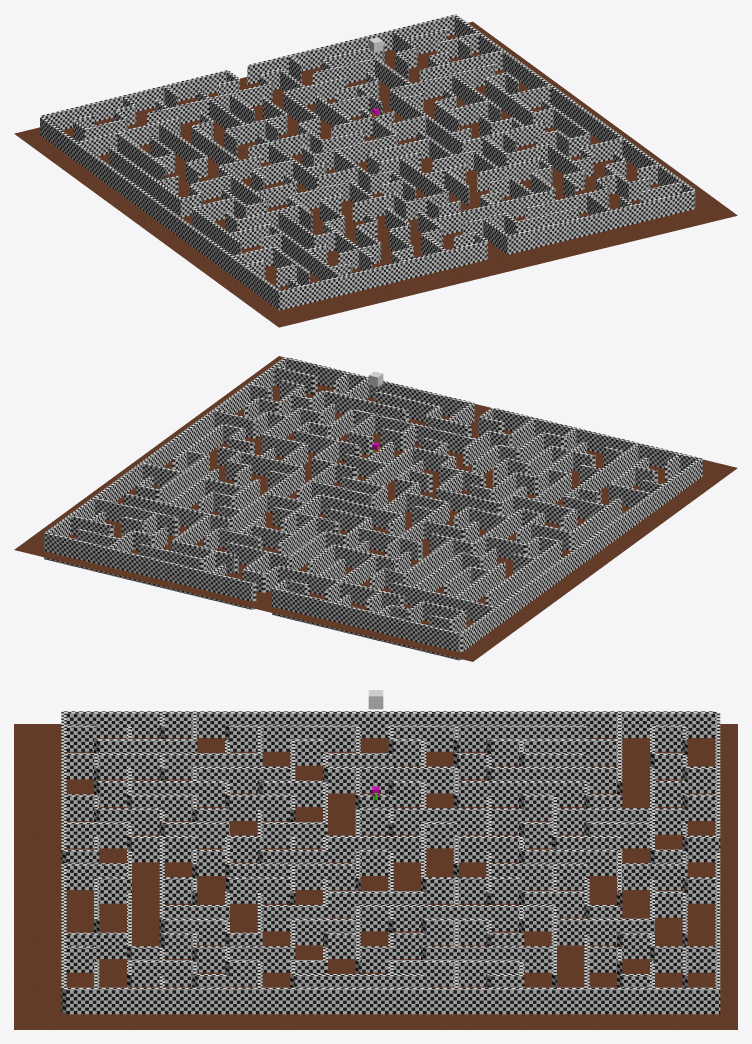
The model's file is backrooms.fbx.
The picture shows the model from 3 angles, top to bottom: view 1: azimuth 30°, elevation 25°; view 2: azimuth 150°, elevation 25°; view 3: azimuth 270°, elevation 25°; orthographic projection. The views are drawn at different scales.
Parts seen in each view (by area): view 1: whall, ground; view 2: whall, ground; view 3: whall, ground.
Boxes of the visible parts, x1,y1,x2,y2 form: whall: (40, 14, 695, 310); ground: (14, 21, 737, 327); whall: (44, 357, 702, 660); ground: (14, 356, 737, 661); whall: (61, 711, 720, 1014); ground: (14, 724, 737, 1029).
Size of the model in its own units: 20000 by 5942 by 20000.
